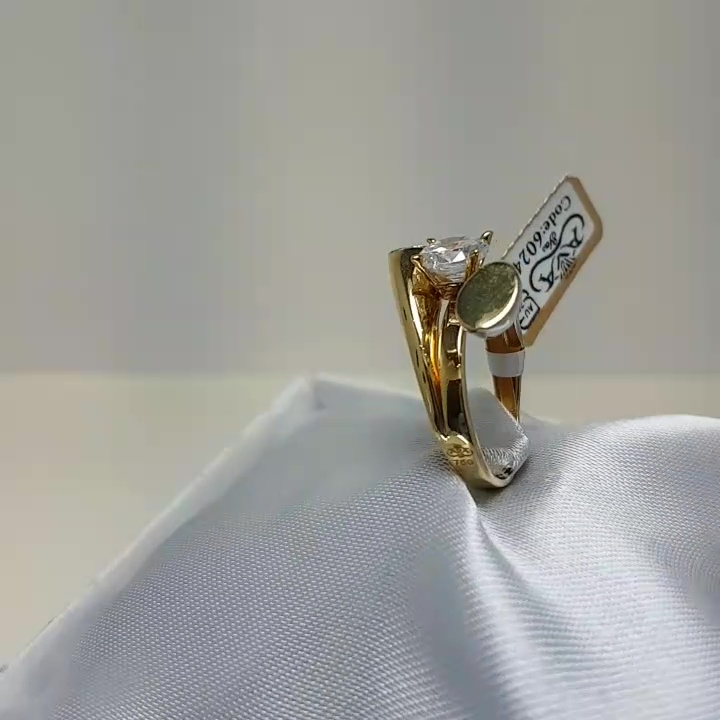Ring 7: (350, 225, 531, 512)
